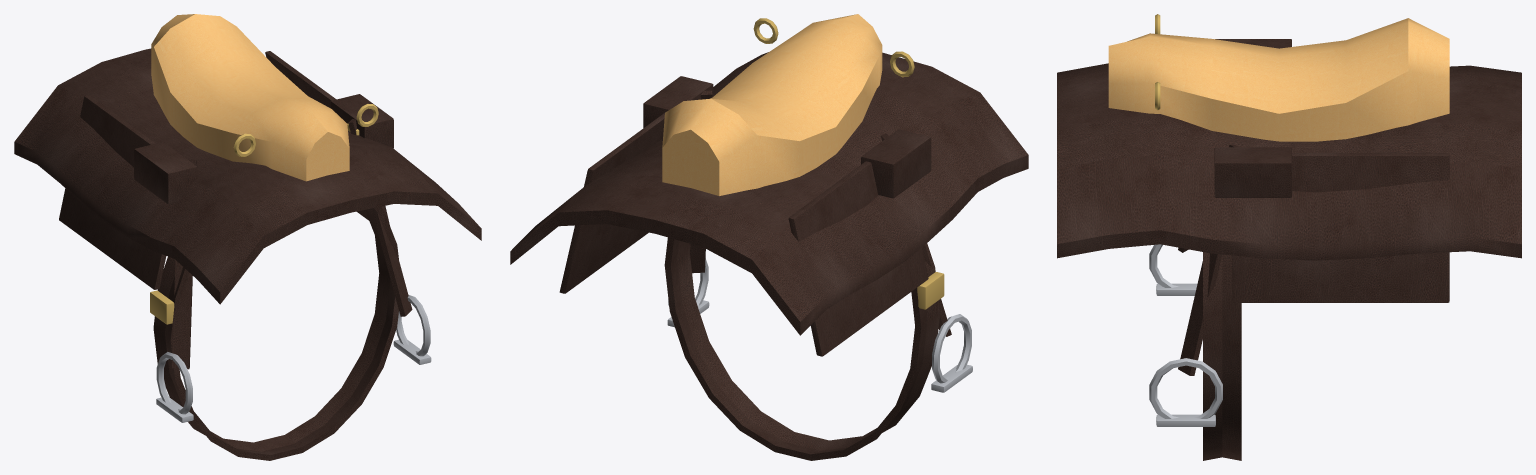
File: horse_saddle.glb
3 views of the same model, side by side, from view 1: azimuth 30°, elevation 25°; view 2: azimuth 150°, elevation 25°; view 3: azimuth 270°, elevation 25° (orthographic). The views are drawn at different scales.
Parts seen in each view (by area): view 1: Saddle_Pad, Saddle_Seat, Saddle_Girth, Saddle_Flap_R, Saddle_KneeRoll_R, Saddle_KneeRoll_L, Saddle_StirrupLeather_R, Saddle_StirrupLeather_L, Saddle_Flap_L, Saddle_Iron_R, Saddle_Iron_L, Saddle_GirthBuckle; view 2: Saddle_Pad, Saddle_Seat, Saddle_Girth, Saddle_Flap_R, Saddle_Flap_L, Saddle_KneeRoll_R, Saddle_KneeRoll_L, Saddle_Iron_R, Saddle_GirthBuckle, Saddle_Tread_R; view 3: Saddle_Pad, Saddle_Seat, Saddle_Flap_L, Saddle_Girth, Saddle_KneeRoll_L, Saddle_StirrupLeather_L, Saddle_Iron_L, Saddle_Tread_L.
Boxes of the visible parts, x1,y1,x2,y2 form: Saddle_Pad: (14,48,481,304); Saddle_Seat: (151,14,349,181); Saddle_Girth: (153,206,398,460); Saddle_Flap_R: (59,95,166,289); Saddle_KneeRoll_R: (134,142,197,204); Saddle_KneeRoll_L: (330,94,393,148); Saddle_StirrupLeather_R: (172,159,196,369); Saddle_StirrupLeather_L: (348,119,412,316); Saddle_Flap_L: (265,51,389,225); Saddle_Iron_R: (156,352,192,414); Saddle_Iron_L: (396,295,430,356); Saddle_GirthBuckle: (150,290,174,324); Saddle_Pad: (510,52,1028,335); Saddle_Seat: (662,14,882,195); Saddle_Girth: (664,237,940,460); Saddle_Flap_R: (788,161,928,356); Saddle_Flap_L: (559,113,664,293); Saddle_KneeRoll_R: (861,129,931,198); Saddle_KneeRoll_L: (643,76,713,127); Saddle_Iron_R: (932,314,971,383); Saddle_GirthBuckle: (917,272,944,309); Saddle_Tread_R: (931,364,972,392); Saddle_Pad: (1057,63,1521,260); Saddle_Seat: (1108,18,1449,141); Saddle_Flap_L: (1232,153,1449,302); Saddle_Girth: (1203,252,1241,460); Saddle_KneeRoll_L: (1214,147,1291,197); Saddle_StirrupLeather_L: (1178,144,1238,375); Saddle_Iron_L: (1149,358,1222,418); Saddle_Tread_L: (1156,414,1215,426).
Bounding box in the file's own units: 0.66 × 0.9084 × 0.9.
4 materials, 2 textured.
